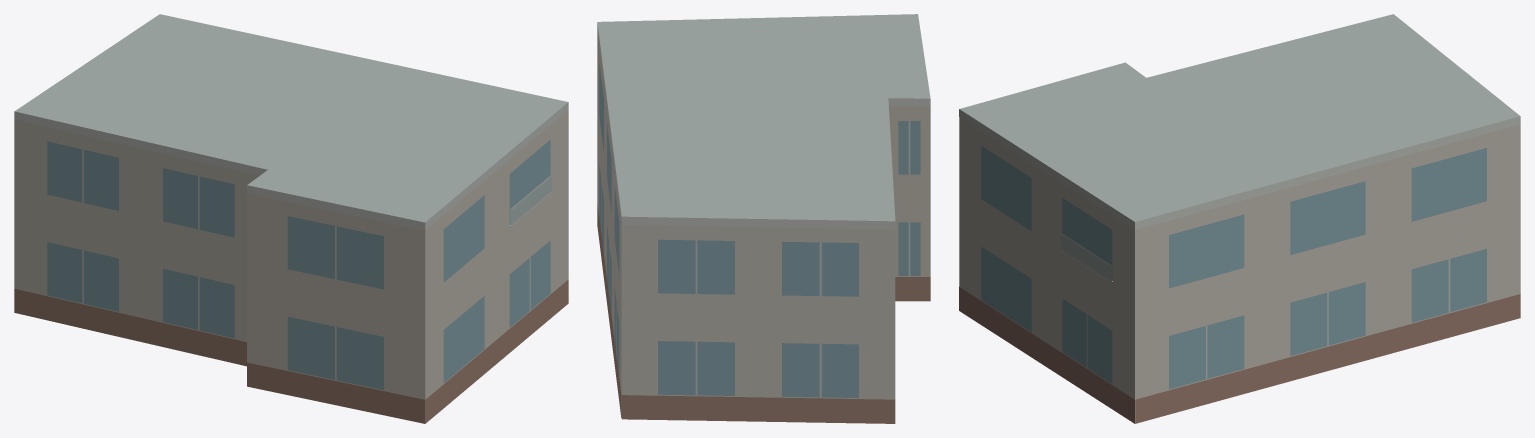
The model's file is survey-upis-32764313.glb.
The picture shows the model from 3 angles, left to right: view 1: azimuth 30°, elevation 25°; view 2: azimuth 150°, elevation 25°; view 3: azimuth 270°, elevation 25°; orthographic projection.
Visible parts, largest first — view 1: survey-upis-32764313.tmp; view 2: survey-upis-32764313.tmp; view 3: survey-upis-32764313.tmp.
Boxes of the visible parts, box(x1,y1,x2,y2) form: survey-upis-32764313.tmp: box(14, 14, 568, 423); survey-upis-32764313.tmp: box(597, 14, 930, 423); survey-upis-32764313.tmp: box(959, 14, 1520, 423).
Size of the model in its own units: 13.49 by 6.1 by 15.38.
